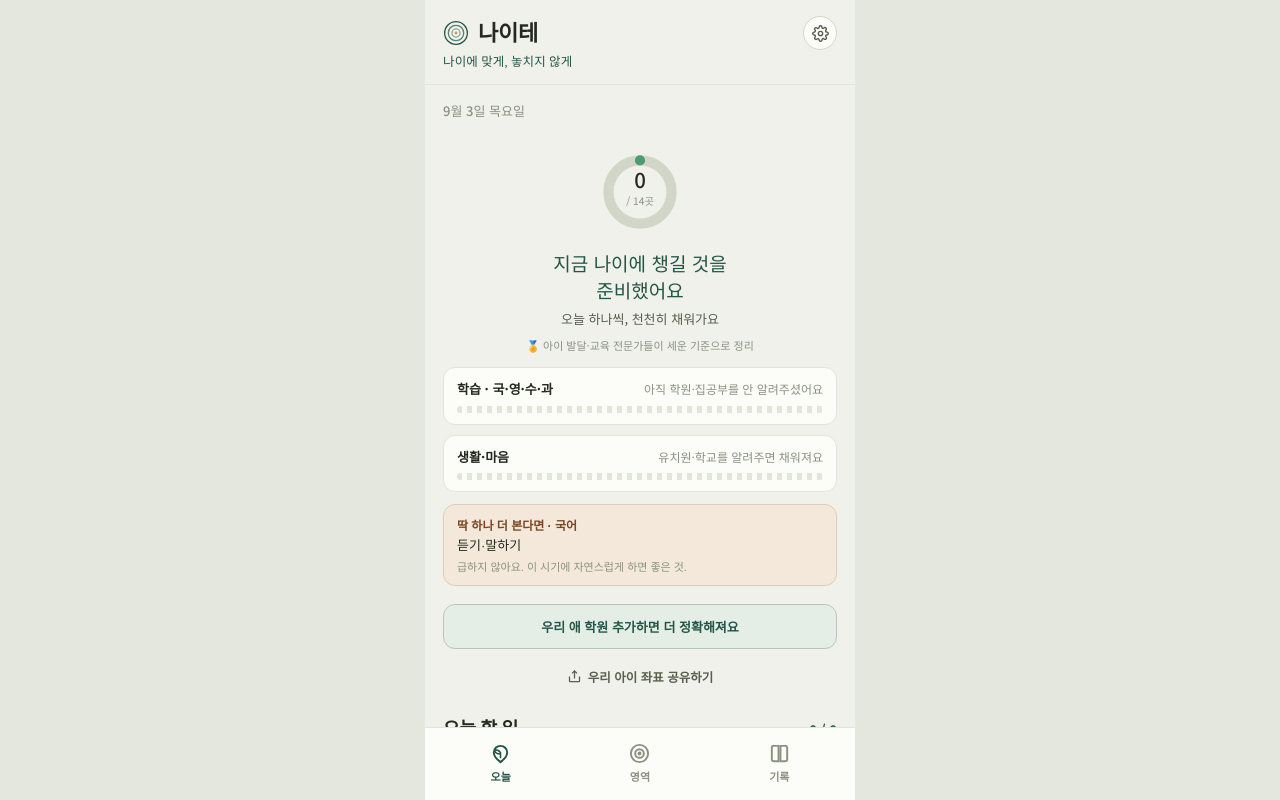
⭐ 안도 공유 카드 (§07-A) › "우리 아이 좌표 공유하기"를 누르면 좌표 카드(데이터-아트)가 뜬다
Expected: the element with test id "view-today" is shown, [425,85,855,727]
Click the button "우리 아이 좌표 공유하기" at coordinates (640, 677), box [443,661,837,692]
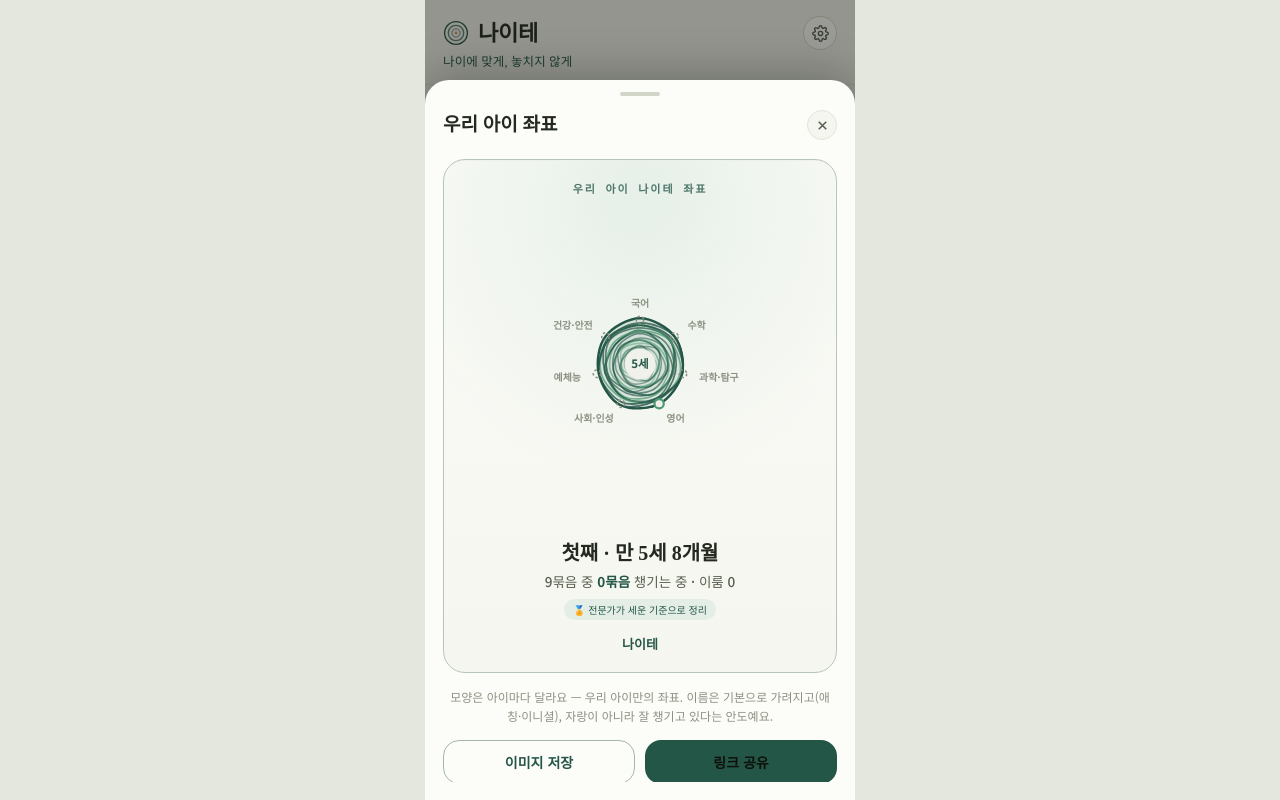
Result: the element with test id "share-sheet" is shown at [425,0,855,799]
Result: the picture with test id "coord-art" is shown at [464,198,816,528]
